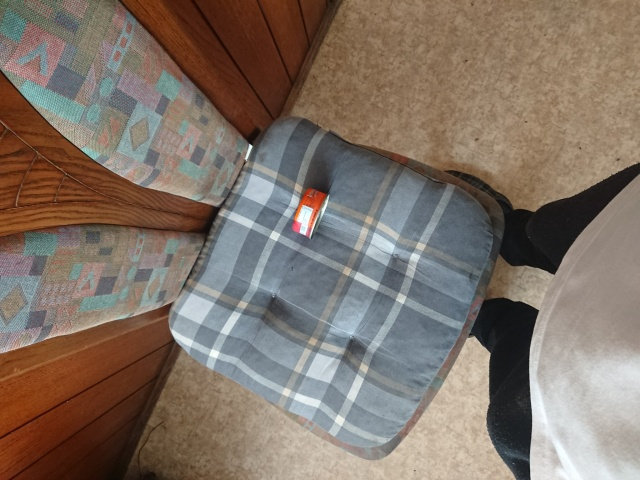Gavrilovic Pork Liver Pate 100g: (289, 186, 332, 242)
